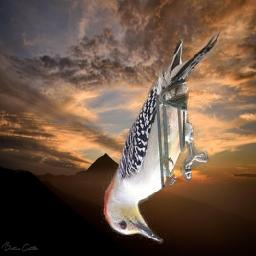Woodpecker: (101, 31, 221, 246)
